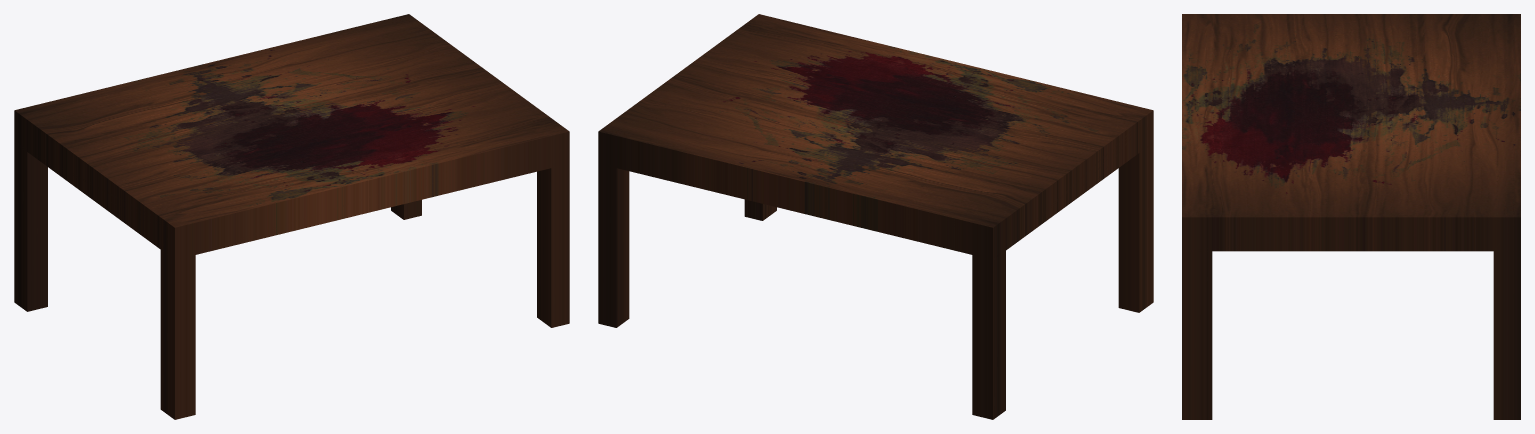
Rendered from CabinTable.FBX.
3 views of the same model, side by side, from view 1: azimuth 30°, elevation 25°; view 2: azimuth 150°, elevation 25°; view 3: azimuth 270°, elevation 25° (orthographic). The views are drawn at different scales.
Parts seen in each view (by area): view 1: Box054; view 2: Box054; view 3: Box054.
Boxes of the visible parts, x1,y1,x2,y2 form: Box054: [14, 14, 569, 419]; Box054: [598, 14, 1153, 419]; Box054: [1182, 14, 1520, 419].
Size of the model in its own units: 72.11 by 33.55 by 50.8.
Materials: 1 (1 with a texture image).
